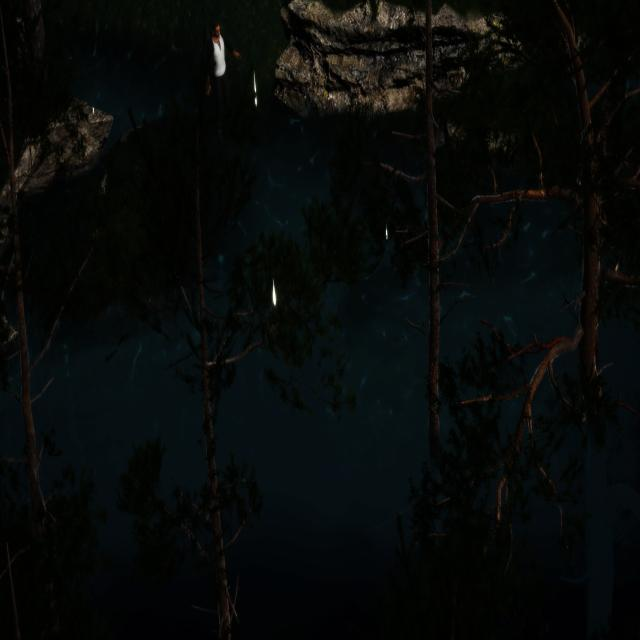Human: (209, 19, 234, 147)
